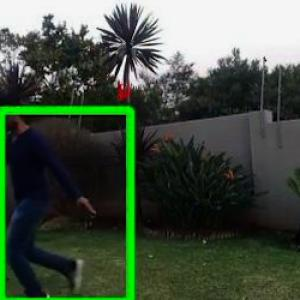land: (1, 97, 97, 299)
